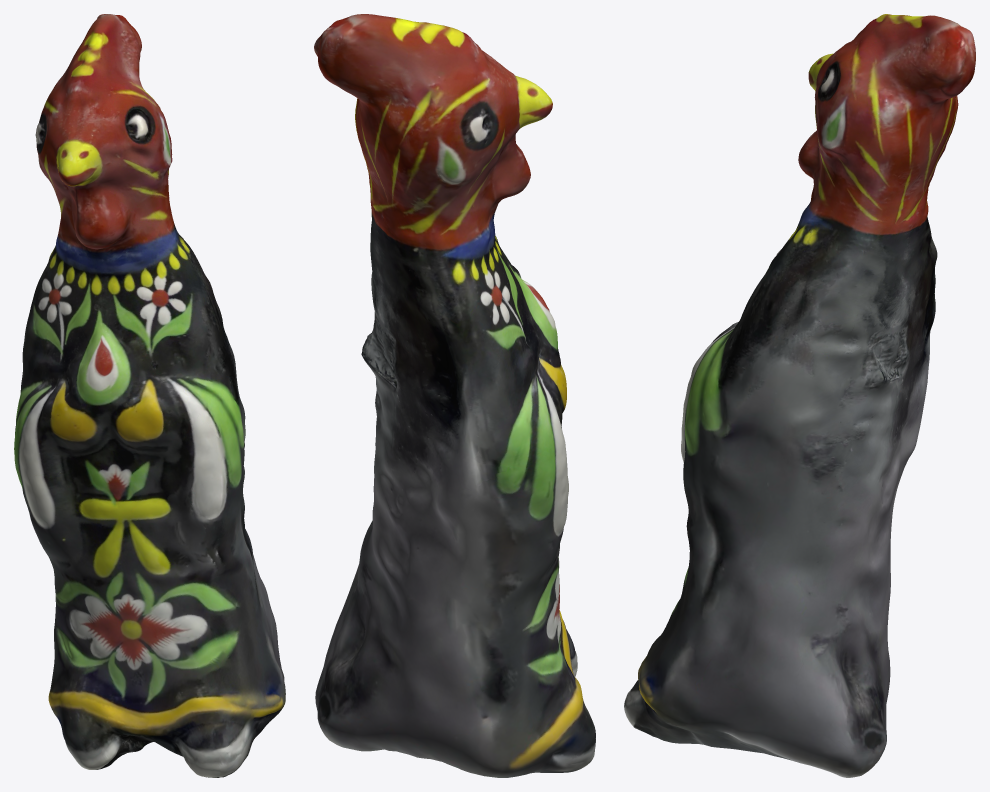
3 views of the same model, side by side, from view 1: azimuth 30°, elevation 25°; view 2: azimuth 150°, elevation 25°; view 3: azimuth 270°, elevation 25° (orthographic). The views are drawn at different scales.
Size of the model in its own units: 0.3264 by 0.9805 by 0.424.
Materials: 1 (1 with a texture image).
